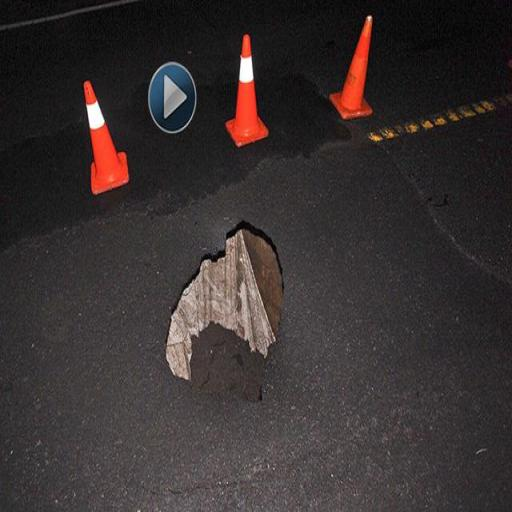Concentric_Crack: (166, 220, 283, 401)
